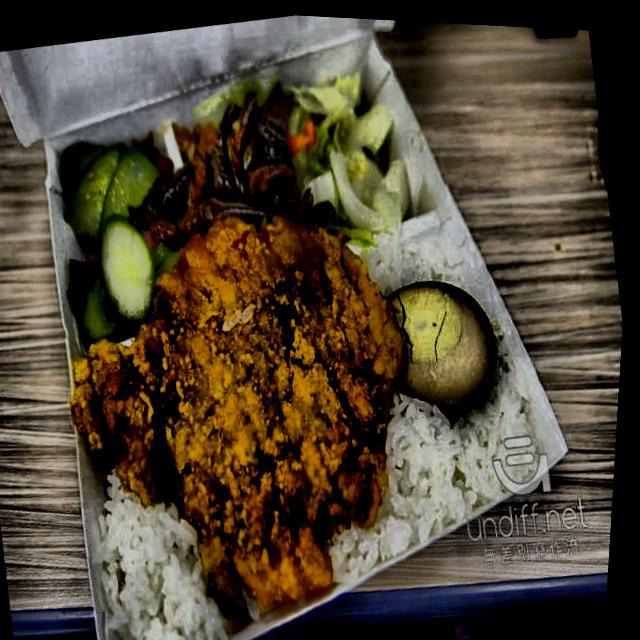Food: (38, 183, 452, 640), (103, 509, 209, 640), (390, 405, 503, 526)
